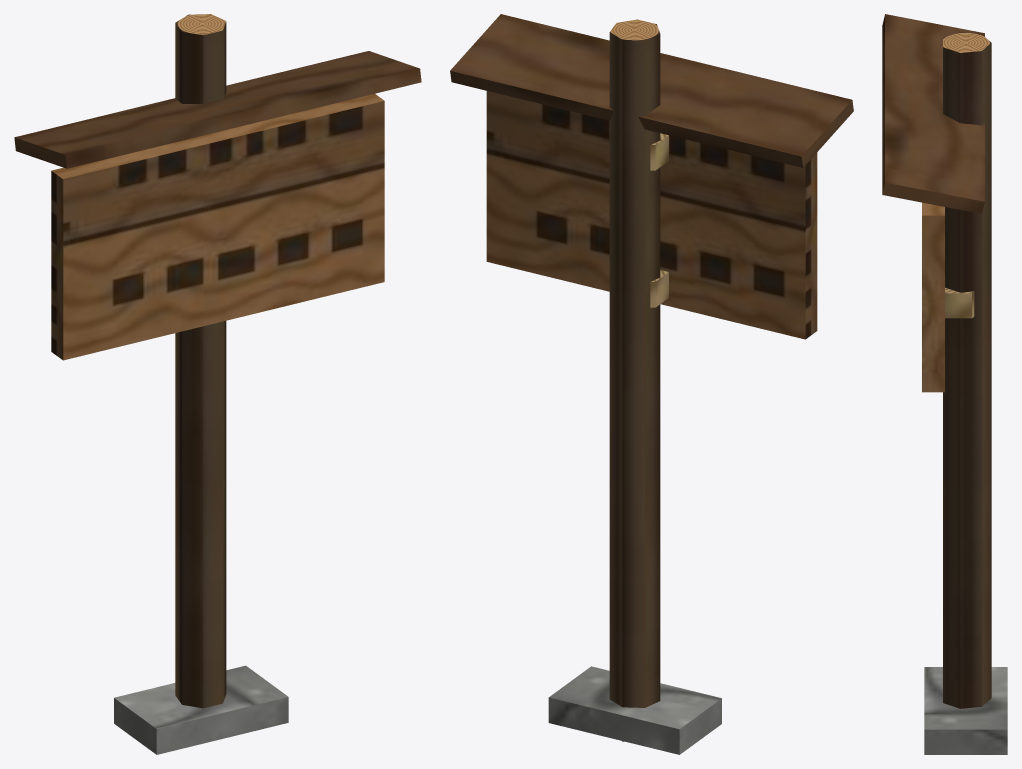
The model's file is sign.glb.
3 views of the same model, side by side, from view 1: azimuth 30°, elevation 25°; view 2: azimuth 150°, elevation 25°; view 3: azimuth 270°, elevation 25° (orthographic). The views are drawn at different scales.
Parts seen in each view (by area): view 1: sign; view 2: sign; view 3: sign.
Part boxes in pixels (box(x1,y1,x2,y2)): sign: box(14, 14, 421, 754); sign: box(450, 14, 853, 754); sign: box(882, 14, 1007, 754).
Size of the model in its own units: 0.86 by 1.64 by 0.2707.
Materials: 1 (1 with a texture image).
